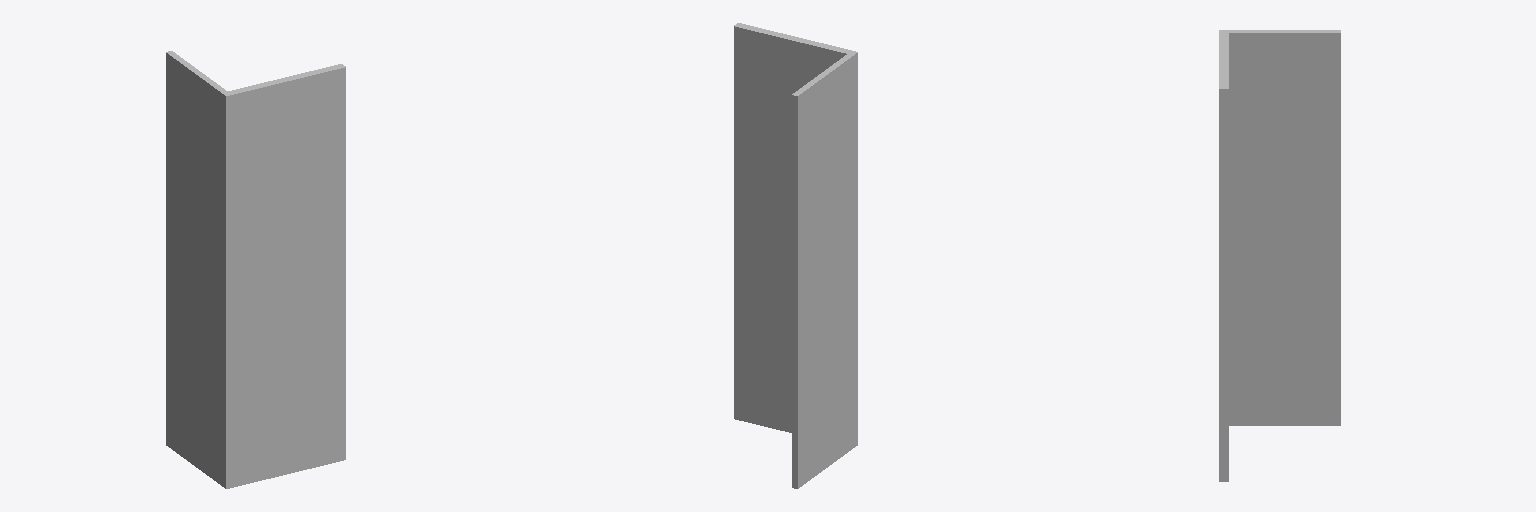
The model's file is hallway.obj.
3 renders of one model, left to right at view 1: azimuth 30°, elevation 25°; view 2: azimuth 150°, elevation 25°; view 3: azimuth 270°, elevation 25°, orthographic.
Visible parts, largest first — view 1: wall_Cube.005; view 2: wall_Cube.005; view 3: wall_Cube.005.
Boxes of the visible parts, <box> form: wall_Cube.005: <box>166,51,345,488</box>; wall_Cube.005: <box>734,23,857,488</box>; wall_Cube.005: <box>1219,30,1340,481</box>.
Bounding box in the file's own units: 10.98 × 34.32 × 9.6.